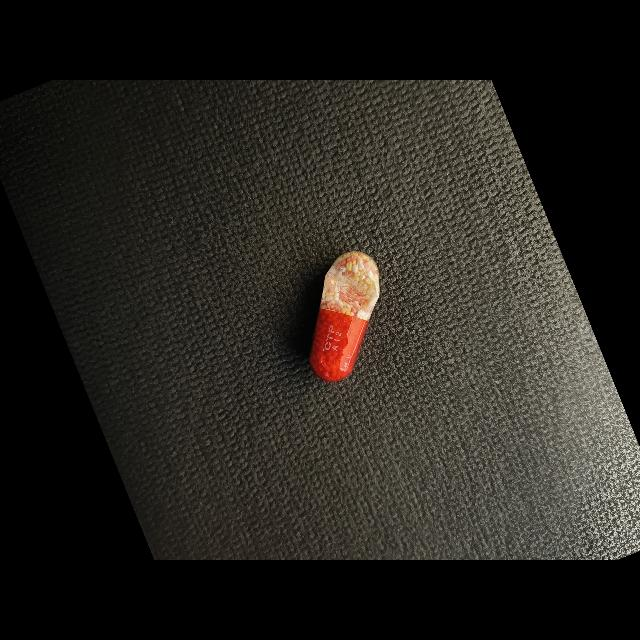Defective Capsule: (310, 251, 379, 381)
